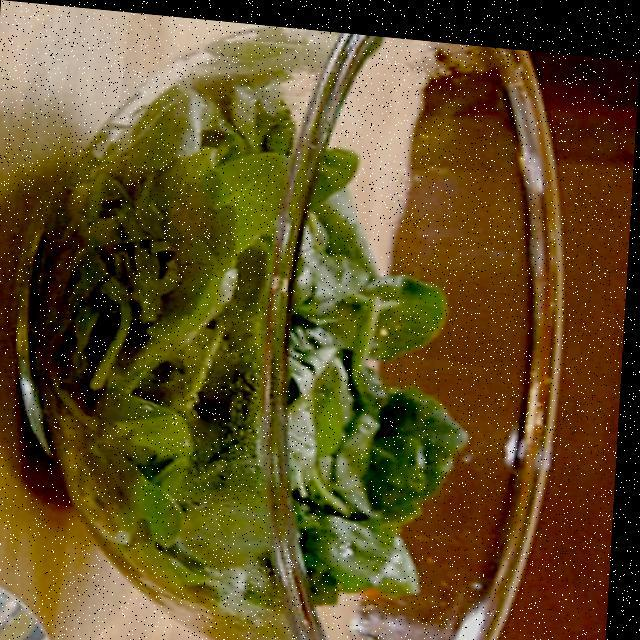Spinach: (13, 50, 494, 640)
